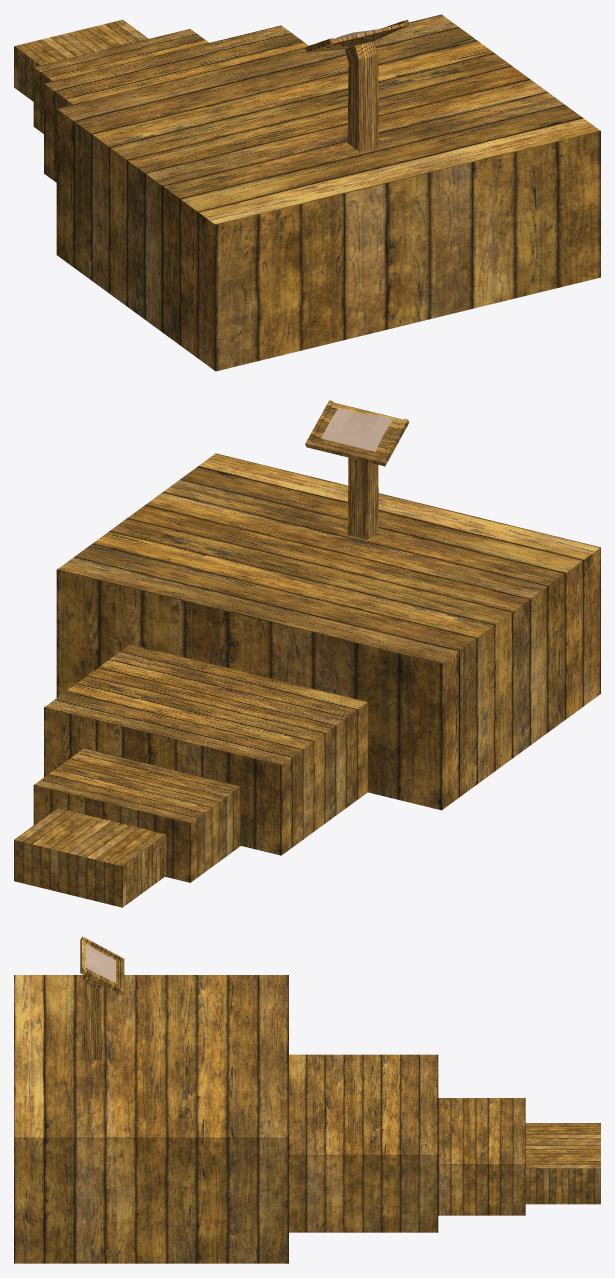
Rendered from SpeechTable.fbx.
3 views of the same model, one above another, from view 1: azimuth 30°, elevation 25°; view 2: azimuth 150°, elevation 25°; view 3: azimuth 270°, elevation 25° (orthographic). The views are drawn at different scales.
Visible parts, largest first — view 1: Cube.012, Cube.011, Cube.013, Cube.009, Cube.010; view 2: Cube.012, Cube.011, Cube.009, Cube.010, Cube.013, Cube.014; view 3: Cube.012, Cube.011, Cube.009, Cube.010, Cube.013, Cube.014.
Part boxes in pixels (x1,y1,x2,y2): Cube.012: (56, 14, 600, 371); Cube.011: (44, 25, 308, 182); Cube.013: (305, 19, 409, 151); Cube.009: (33, 29, 208, 133); Cube.010: (14, 19, 148, 101); Cube.012: (56, 453, 600, 810); Cube.011: (44, 644, 367, 855); Cube.009: (33, 748, 240, 882); Cube.010: (14, 808, 166, 907); Cube.013: (305, 400, 409, 539); Cube.014: (321, 408, 392, 451); Cube.012: (14, 975, 288, 1263); Cube.011: (289, 1054, 438, 1232); Cube.009: (438, 1098, 525, 1215); Cube.010: (525, 1123, 600, 1204); Cube.013: (80, 936, 124, 1060); Cube.014: (86, 943, 115, 982).
Bounding box in the file's own units: 279 × 184 × 426.
Materials: 2 (2 with a texture image).
